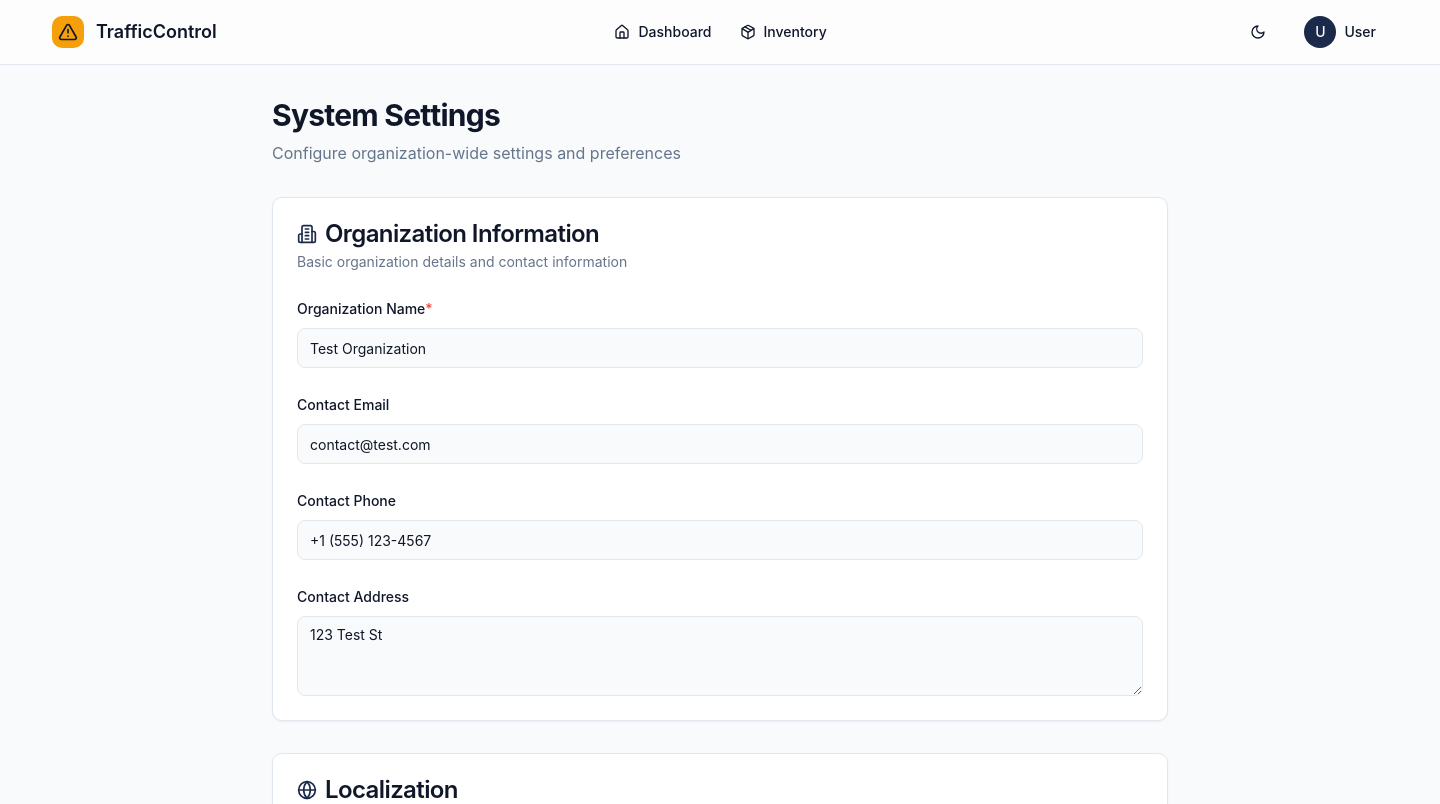
Test: AdminSettings › should validate required fields
Clear the field labelled "Organization Name*" at (720, 348), box x1=297 y1=328 x2=1143 y2=368
(page scrolled)
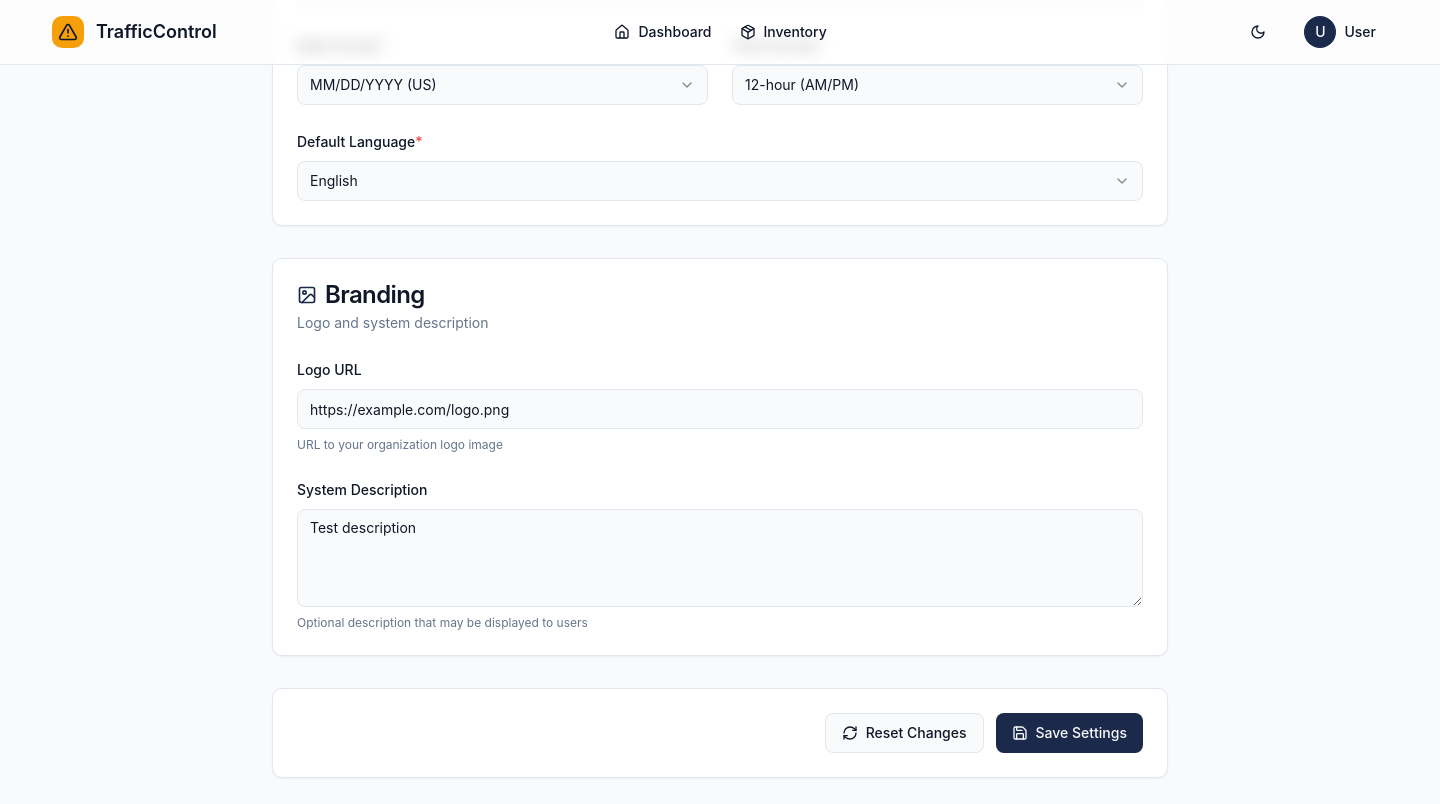
Click the button "Save Settings".
click(1069, 733)  # box x1=996 y1=713 x2=1143 y2=753
(page scrolled)
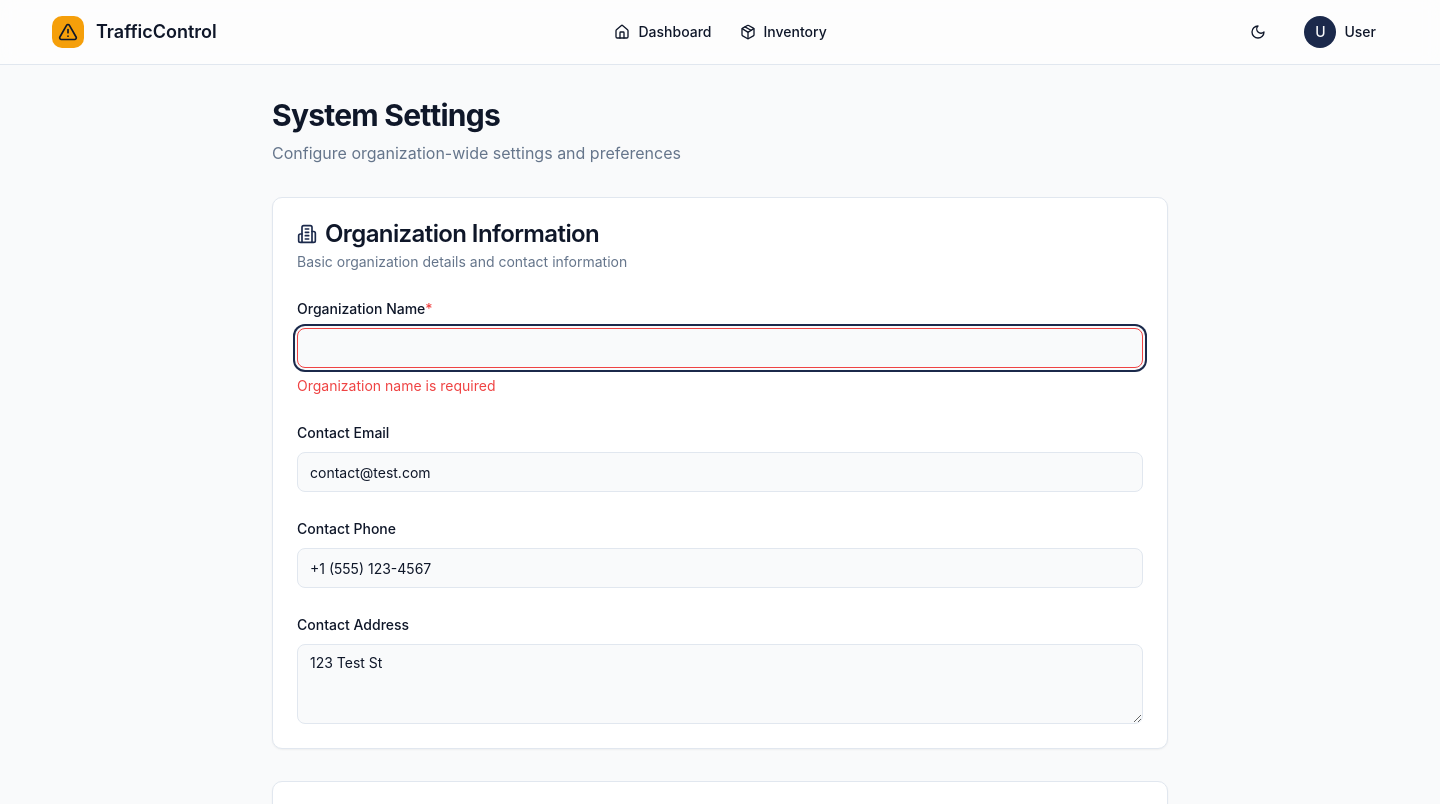
Now the text "Organization name is required" is shown, box x1=297 y1=377 x2=496 y2=394
